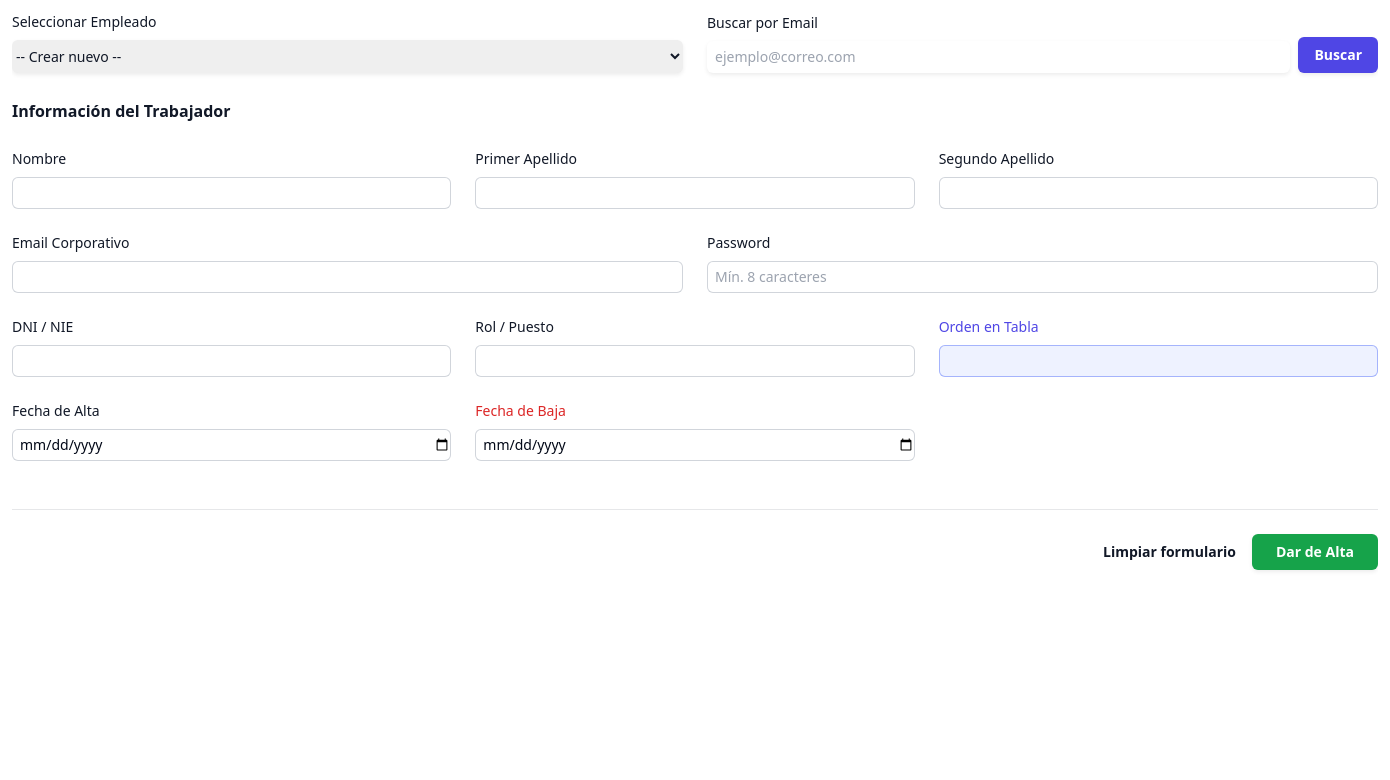
Test: AddUser demo account protection › does not allow editing or deleting the demo account
Select "Demo Account" in the dropdown at (348, 56), box left=12, top=40, right=683, bottom=73
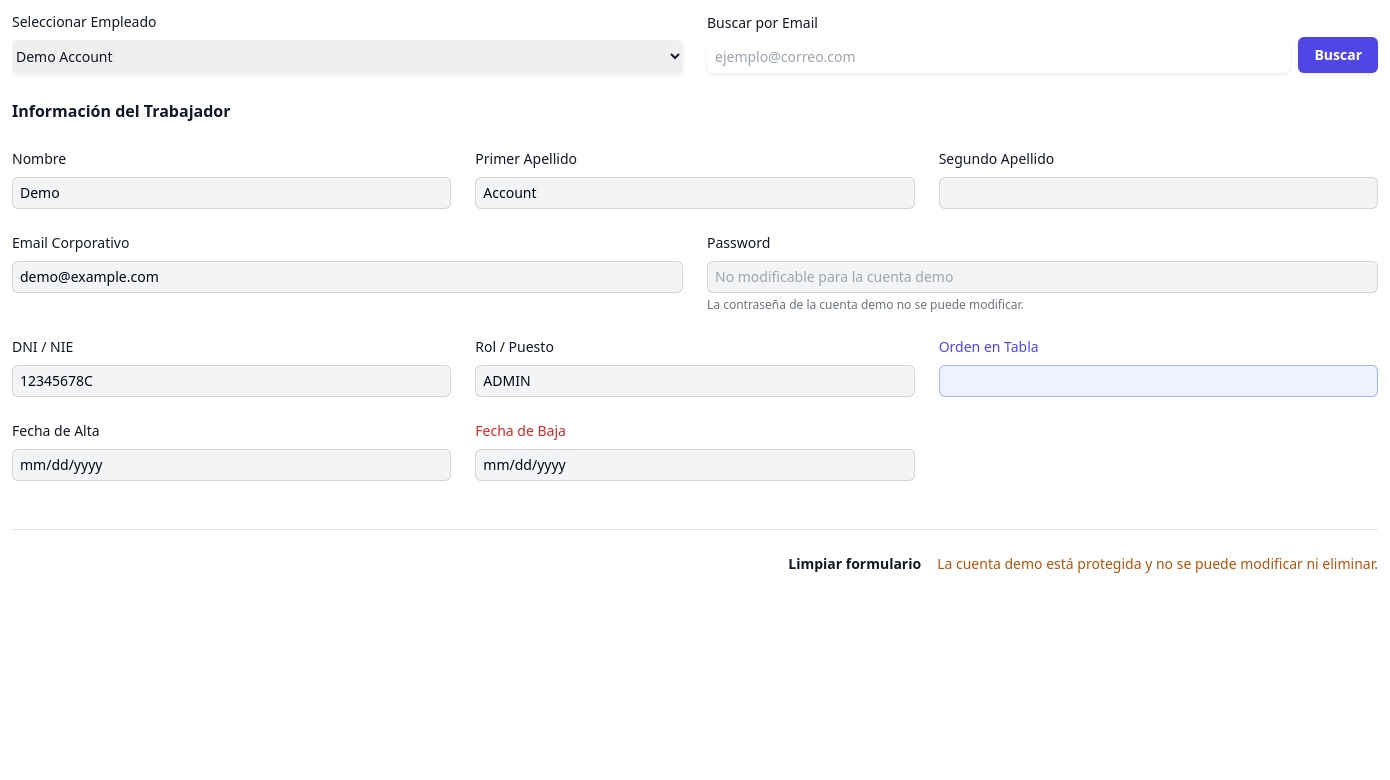
Result: the field showing "Demo" below "Nombre" is disabled at left=12, top=177, right=451, bottom=209
Result: the field showing "12345678C" below "DNI / NIE" is disabled at left=12, top=365, right=451, bottom=397
Result: the text "La cuenta demo está protegida y no se puede modificar ni eliminar." is shown at left=937, top=554, right=1378, bottom=574
